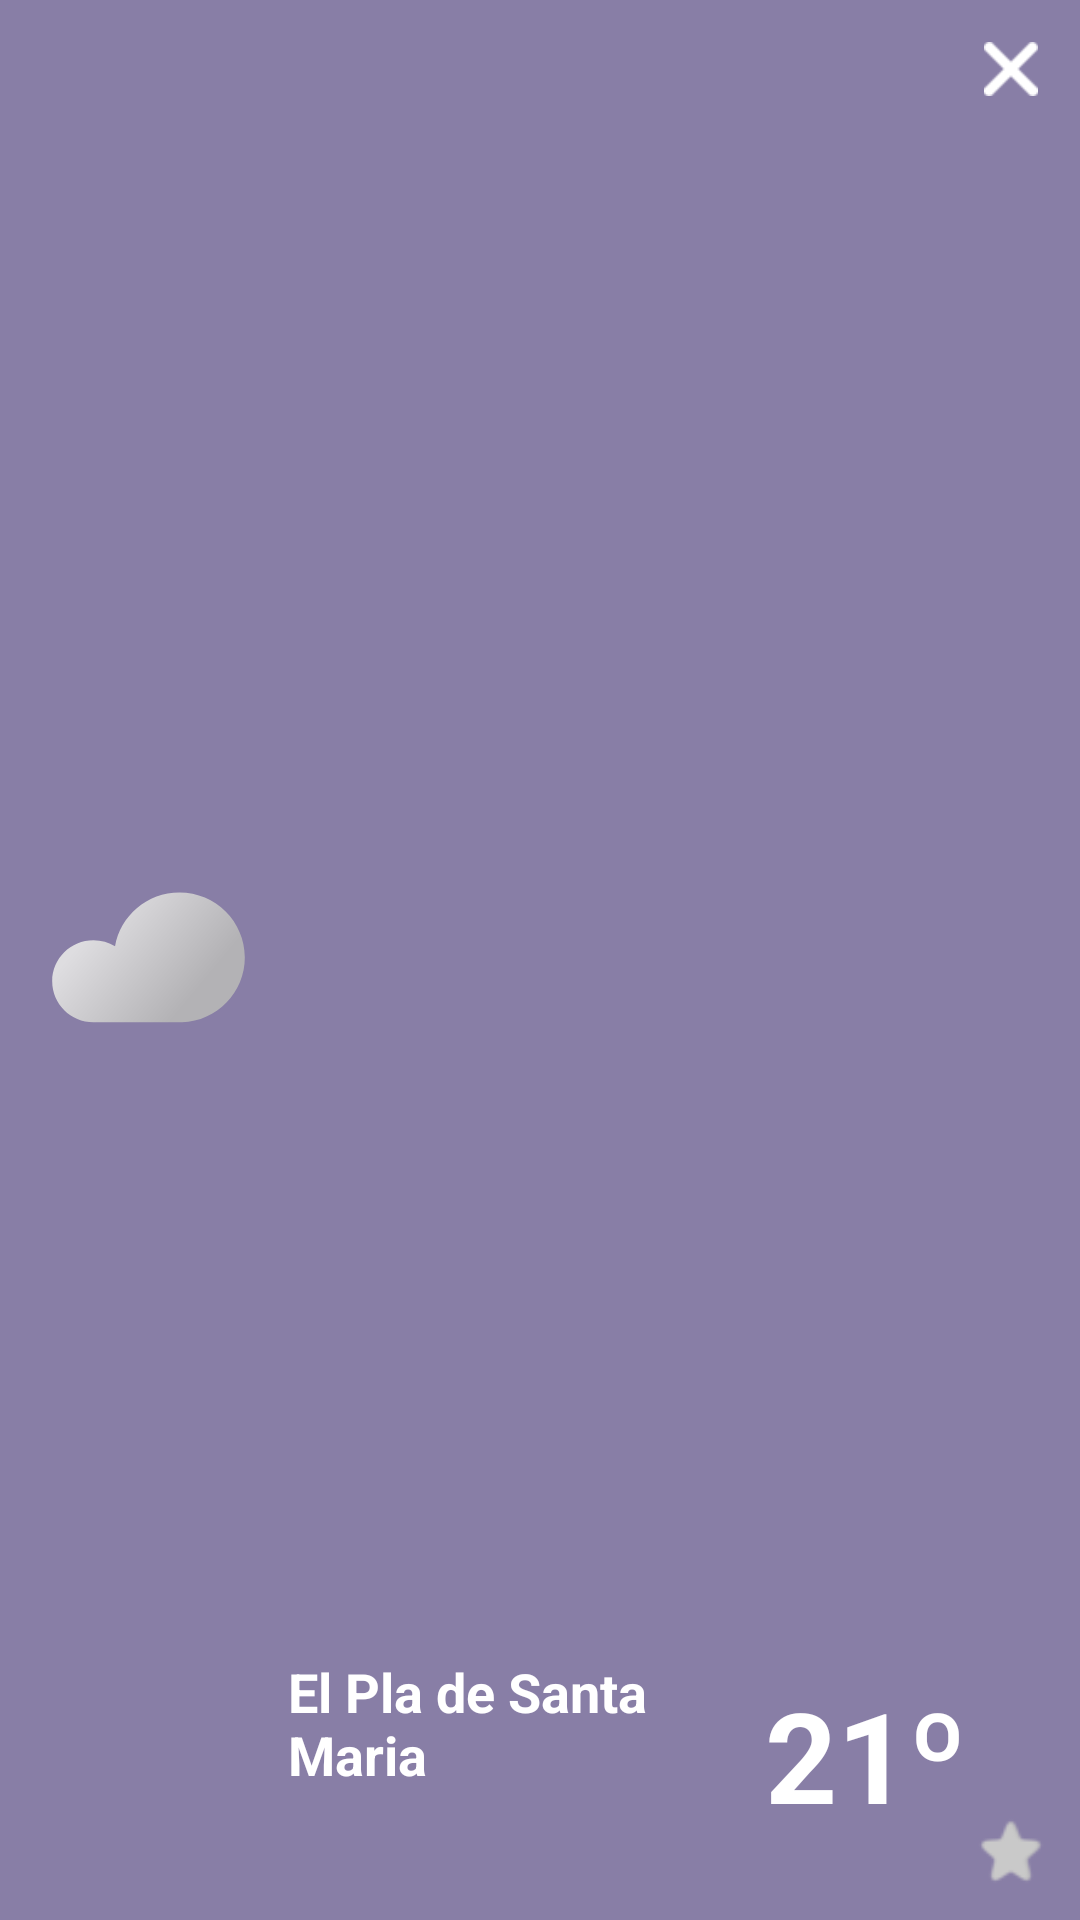

Named icons in this screenshot (1080×1920) and their bounding boxes, bbox=[x1, y1, x2, y2]:
close: bbox=[984, 42, 1038, 96]
cloudy: bbox=[52, 892, 245, 1022]
favorite off: bbox=[981, 1822, 1041, 1881]
